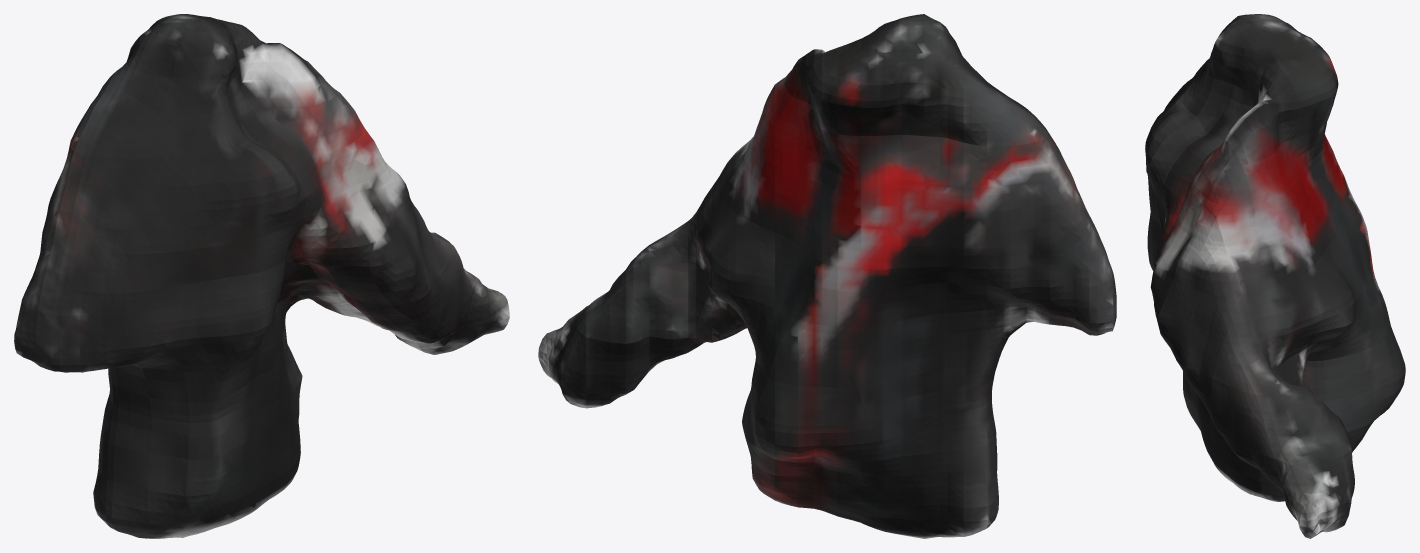
The model's file is cloth12345.glb.
3 renders of one model, left to right at view 1: azimuth 30°, elevation 25°; view 2: azimuth 150°, elevation 25°; view 3: azimuth 270°, elevation 25°, orthographic. The views are drawn at different scales.
Visible parts, largest first — view 1: clothonemesh; view 2: clothonemesh; view 3: clothonemesh.
Part boxes in pixels (<box>): clothonemesh: <box>14,14,509,538</box>; clothonemesh: <box>538,14,1116,538</box>; clothonemesh: <box>1145,14,1405,538</box>.
Bounding box in the file's own units: 0.8534 × 0.7819 × 0.4016.
